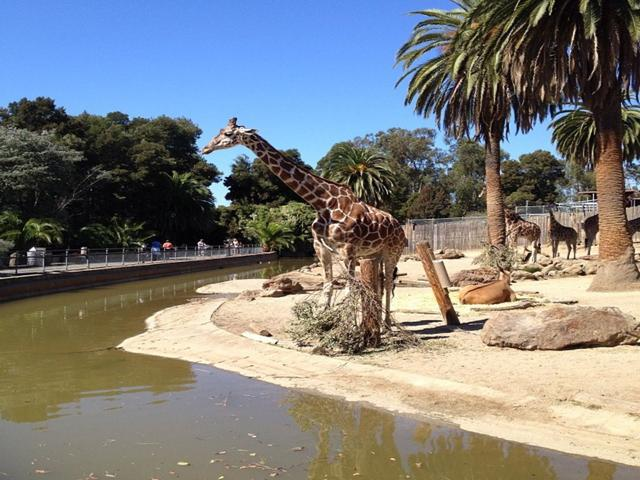giraffe: (177, 102, 442, 355)
